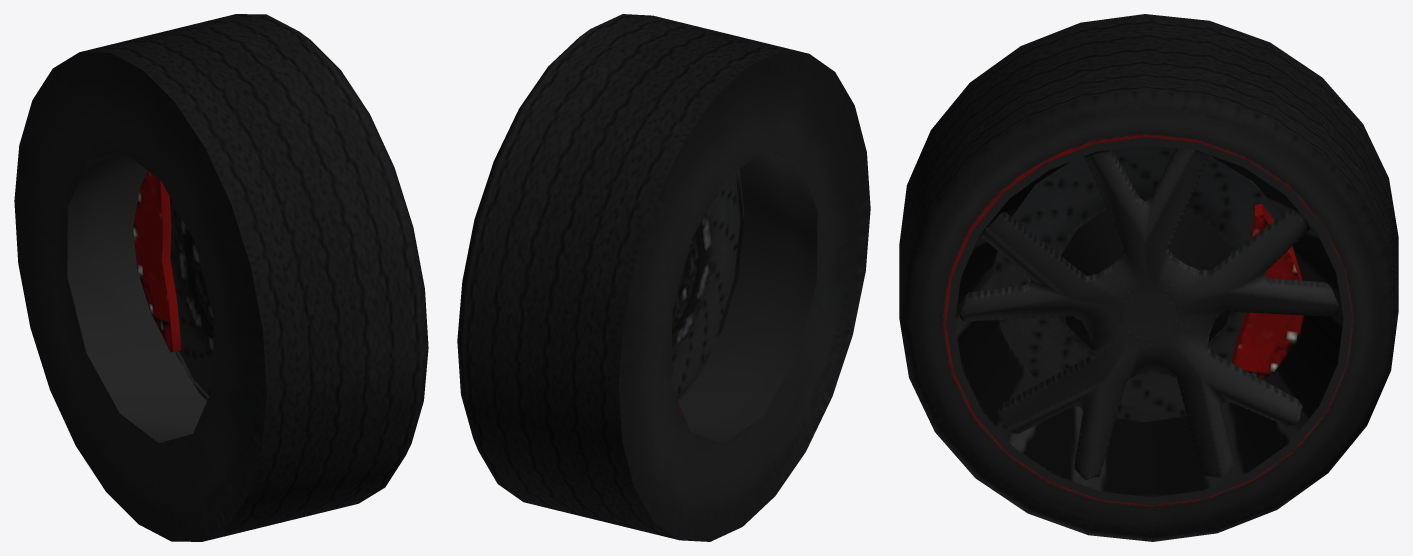
Rendered from WP13_wheelpack.glb.
3 views of the same model, side by side, from view 1: azimuth 30°, elevation 25°; view 2: azimuth 150°, elevation 25°; view 3: azimuth 270°, elevation 25° (orthographic).
Visible parts, largest first — view 1: MOD_ND_WP13_tyre, MOD_ND_WP13_rim, MOD_ND_WP13_brakes; view 2: MOD_ND_WP13_tyre, MOD_ND_WP13_rim, MOD_ND_WP13_brakes; view 3: MOD_ND_WP13_tyre, MOD_ND_WP13_rim, MOD_ND_WP13_brakes.
Boxes of the visible parts, x1,y1,x2,y2 form: MOD_ND_WP13_tyre: [14, 14, 428, 541]; MOD_ND_WP13_rim: [67, 151, 209, 442]; MOD_ND_WP13_brakes: [133, 171, 213, 400]; MOD_ND_WP13_tyre: [457, 14, 870, 541]; MOD_ND_WP13_rim: [677, 151, 817, 443]; MOD_ND_WP13_brakes: [671, 169, 744, 401]; MOD_ND_WP13_tyre: [899, 14, 1398, 541]; MOD_ND_WP13_rim: [946, 137, 1352, 505]; MOD_ND_WP13_brakes: [991, 145, 1303, 421].
Size of the model in its own units: 0.2458 by 0.6414 by 0.6414.
Materials: 2 (2 with a texture image).
